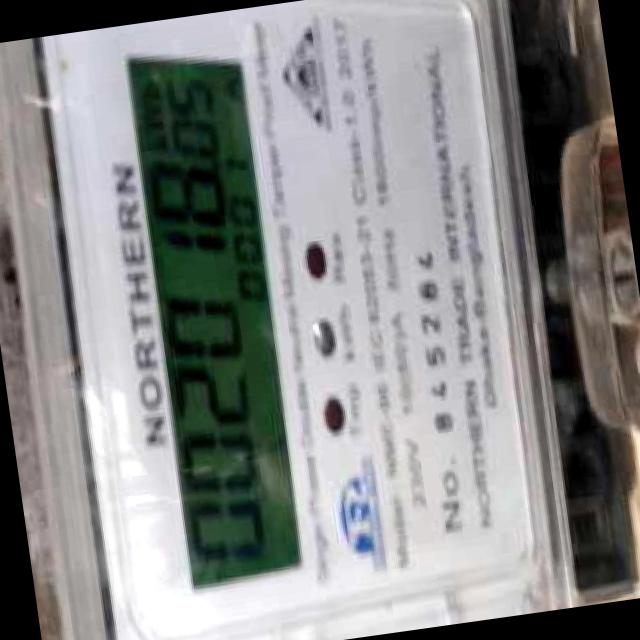LCD: (110, 30, 324, 592)
